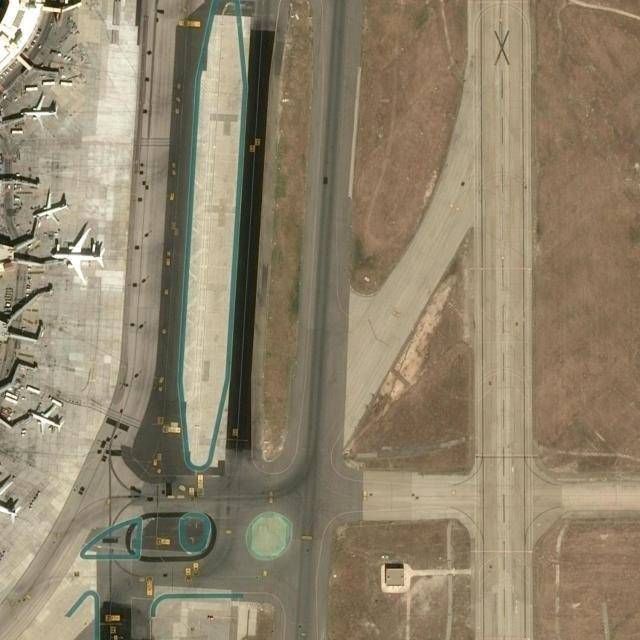Aircraft: (49, 227, 103, 283), (27, 402, 63, 434), (0, 484, 24, 529)
